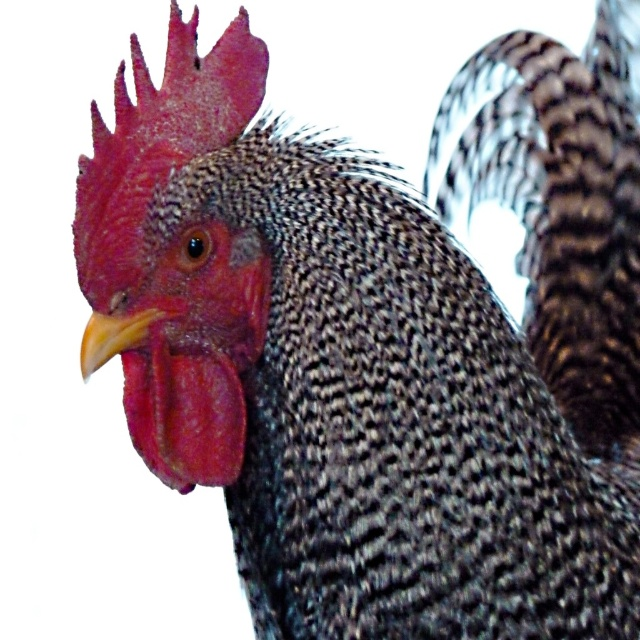Chicken: (82, 5, 640, 639)
